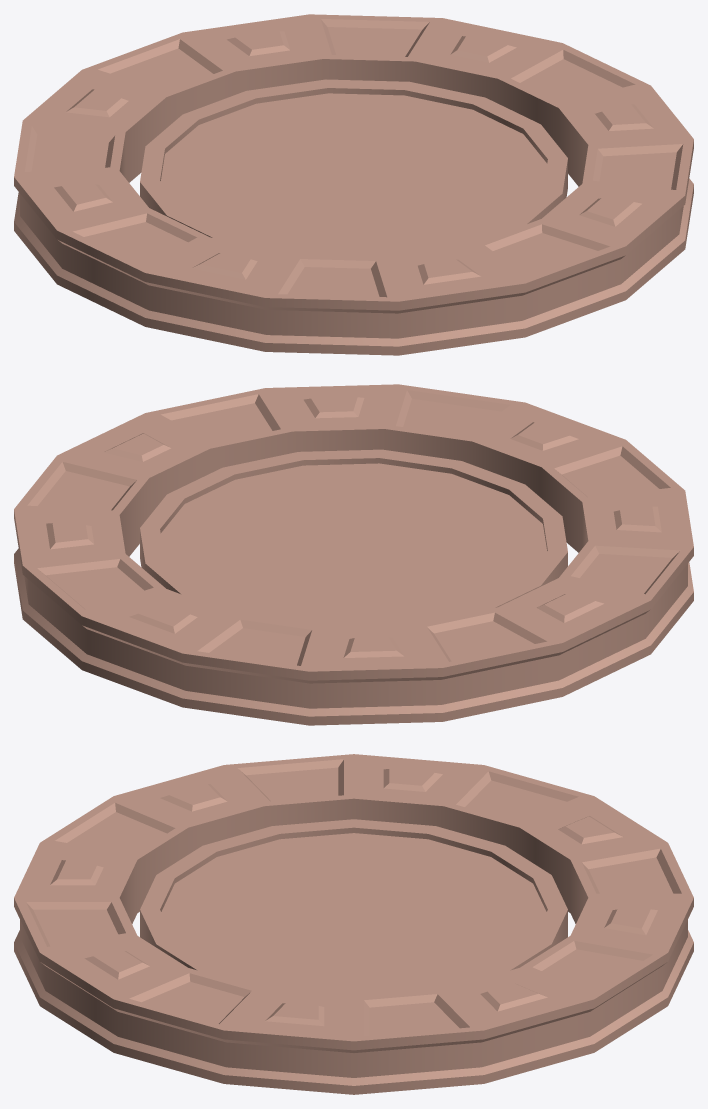
Rendered from Coin 1.fbx.
3 renders of one model, top to bottom at view 1: azimuth 30°, elevation 25°; view 2: azimuth 150°, elevation 25°; view 3: azimuth 270°, elevation 25°, orthographic.
Visible parts, largest first — view 1: CoinOuter, CoinInner; view 2: CoinOuter, CoinInner; view 3: CoinOuter, CoinInner.
Part boxes in pixels (left/top/right/bottom): CoinOuter: left=14, top=14, right=693, bottom=355; CoinInner: left=140, top=79, right=567, bottom=256; CoinOuter: left=14, top=384, right=693, bottom=725; CoinInner: left=140, top=449, right=567, bottom=626; CoinOuter: left=14, top=754, right=693, bottom=1094; CoinInner: left=140, top=819, right=567, bottom=996.
Size of the model in its own units: 34.54 by 3.37 by 34.54.
